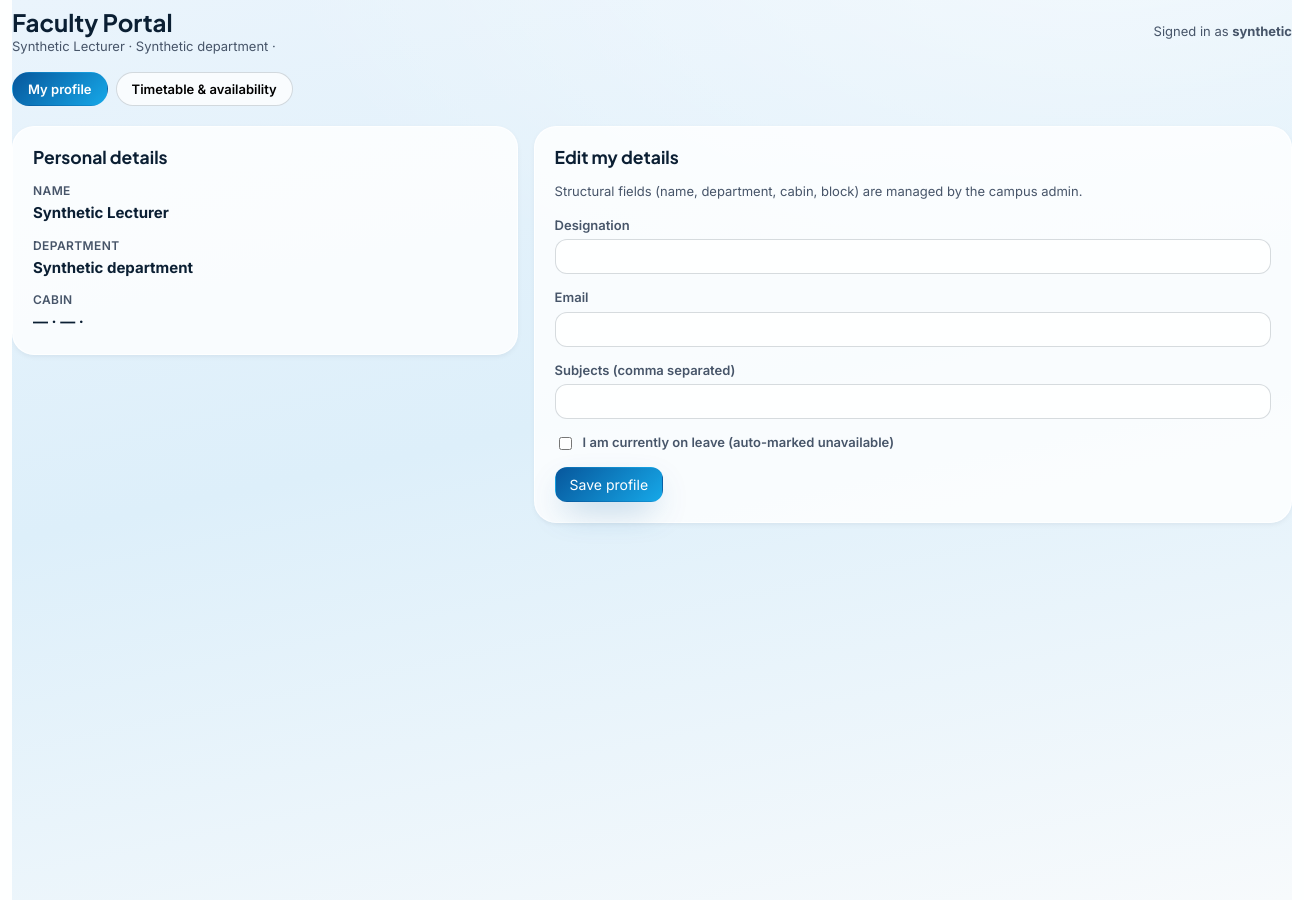
faculty editor displays the new calculation timestamp after a successful save
The width and height of the screenshot is (1304, 900).
Click the button "Timetable & availability": (204, 89) [116,72,293,106]
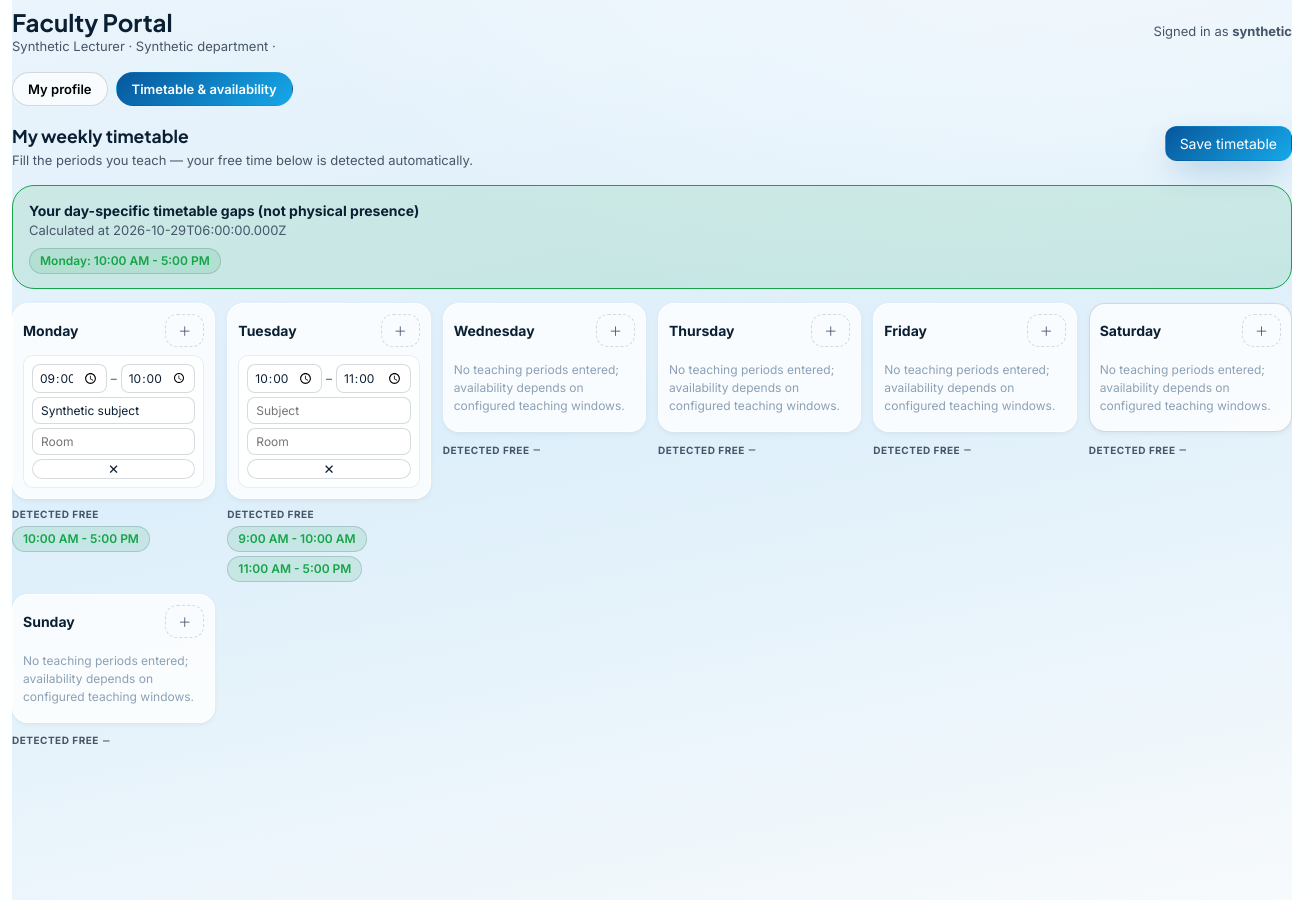
expect the time field named "Monday period 1 start" is shown: met, box [32,364,107,393]
Click the button "Save timetable": (1228, 144) [1165,126,1292,161]
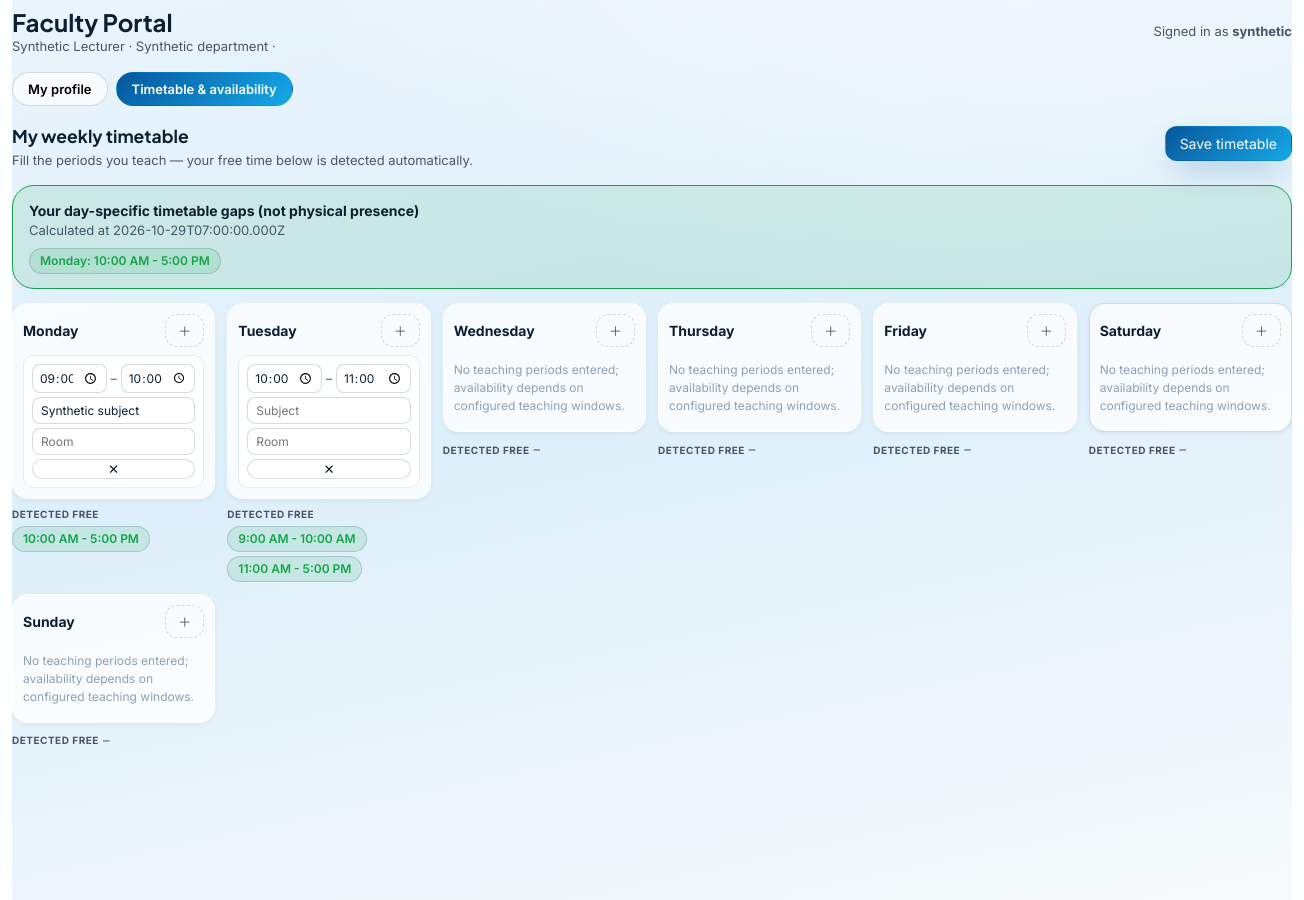
expect the text "Calculated at 2026-10-29T07:00:00.000Z" is shown: met, box [29,222,285,238]
